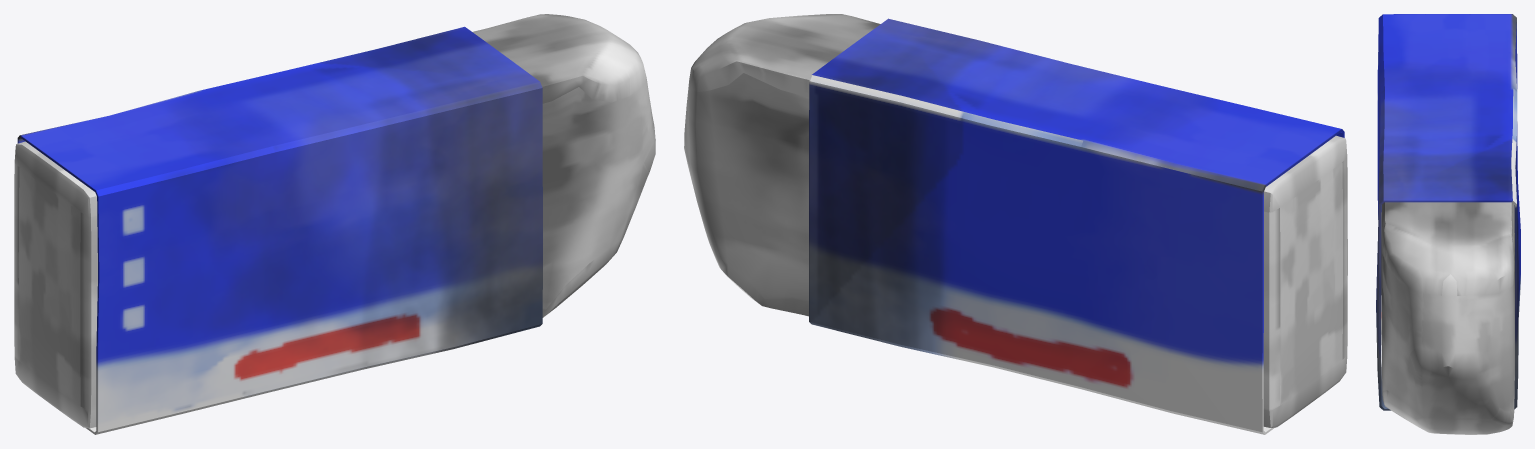
File: eraser1.fbx
3 renders of one model, left to right at view 1: azimuth 30°, elevation 25°; view 2: azimuth 150°, elevation 25°; view 3: azimuth 270°, elevation 25°, orthographic. The views are drawn at different scales.
Visible parts, largest first — view 1: wrapper1, eraser1; view 2: wrapper1, eraser1; view 3: eraser1, wrapper1.
Boxes of the visible parts, bbox=[...] form: wrapper1: bbox=[17, 26, 542, 434]; eraser1: bbox=[14, 14, 655, 428]; wrapper1: bbox=[809, 18, 1344, 434]; eraser1: bbox=[684, 14, 1347, 427]; eraser1: bbox=[1381, 202, 1514, 434]; wrapper1: bbox=[1376, 14, 1520, 410].
Bounding box in the file's own units: 0.5611 × 0.2188 × 0.1353.
2 materials, 2 textured.
